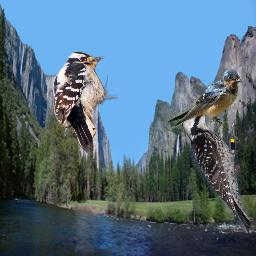Swallow: (163, 69, 242, 135)
Woodpecker: (181, 99, 252, 234), (50, 50, 118, 153)
